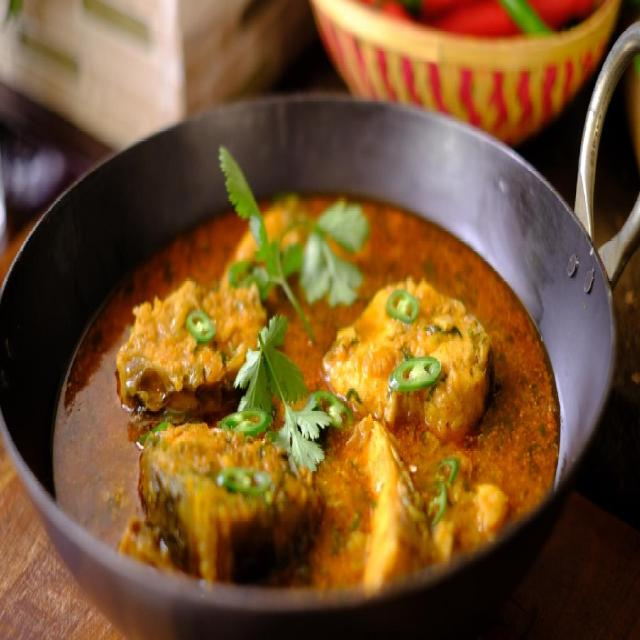FISH CURRY: (51, 185, 567, 593)
